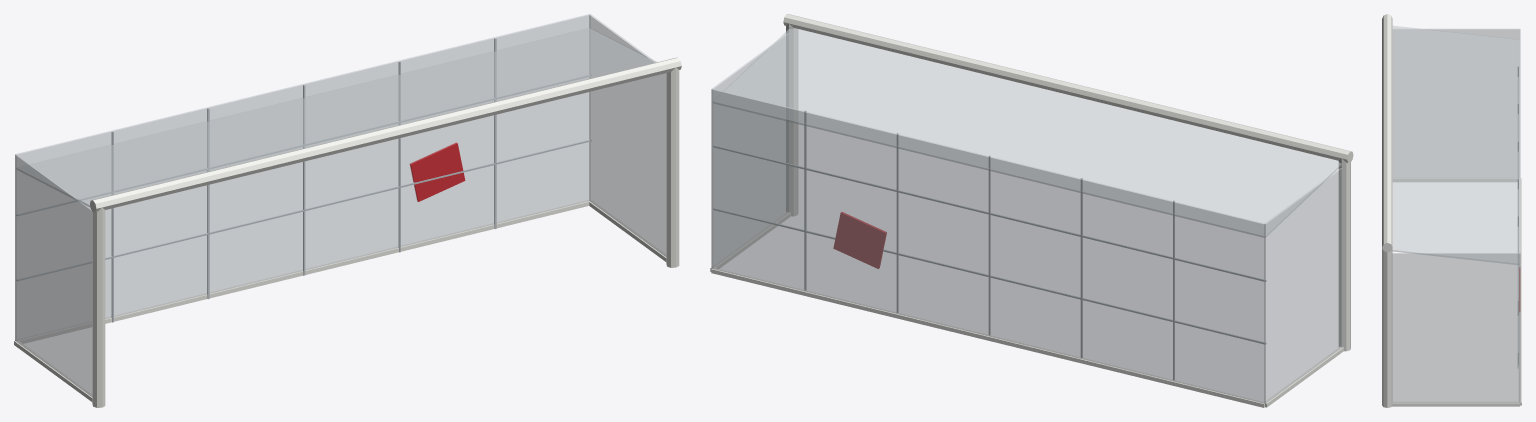
File: football_goal.glb
The picture shows the model from 3 angles, left to right: view 1: azimuth 30°, elevation 25°; view 2: azimuth 150°, elevation 25°; view 3: azimuth 270°, elevation 25°; orthographic projection. The views are drawn at different scales.
Visible parts, largest first — view 1: net_goal_net, posts_goal_white, strings_goal_string, frame_goal_white, patch_goal_patch; view 2: net_goal_net, posts_goal_white, strings_goal_string, frame_goal_white, patch_goal_patch; view 3: net_goal_net, posts_goal_white, frame_goal_white, strings_goal_string.
Boxes of the visible parts, <box> form: net_goal_net: <box>15,14,666,396</box>; posts_goal_white: <box>90,57,681,407</box>; strings_goal_string: <box>16,38,591,322</box>; frame_goal_white: <box>14,200,666,401</box>; patch_goal_patch: <box>409,142,465,201</box>; net_goal_net: <box>711,28,1342,406</box>; posts_goal_white: <box>783,14,1353,351</box>; strings_goal_string: <box>713,110,1266,380</box>; frame_goal_white: <box>710,212,1343,407</box>; patch_goal_patch: <box>833,212,886,268</box>; net_goal_net: <box>1392,25,1520,402</box>; posts_goal_white: <box>1382,14,1392,407</box>; frame_goal_white: <box>1392,178,1521,406</box>; strings_goal_string: <box>1517,66,1518,367</box>.
Bounding box in the file's own units: 6.12 × 2.06 × 1.58.
